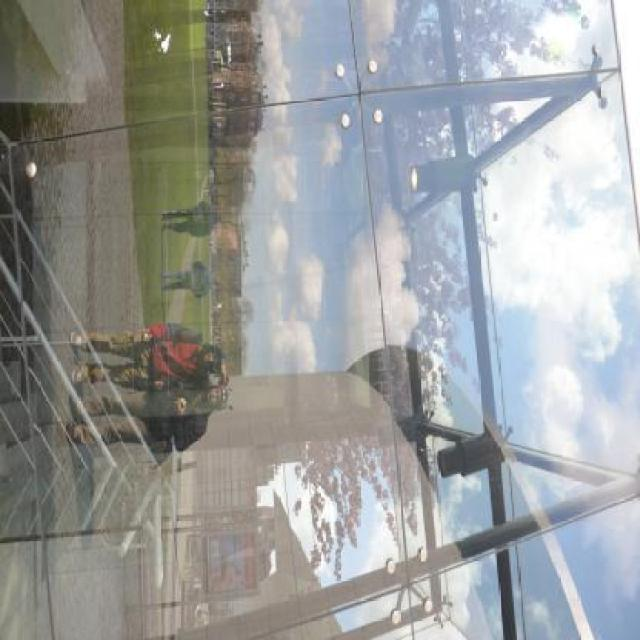Person: (63, 375, 231, 453), (68, 320, 227, 388), (159, 196, 224, 238), (161, 258, 222, 300)
